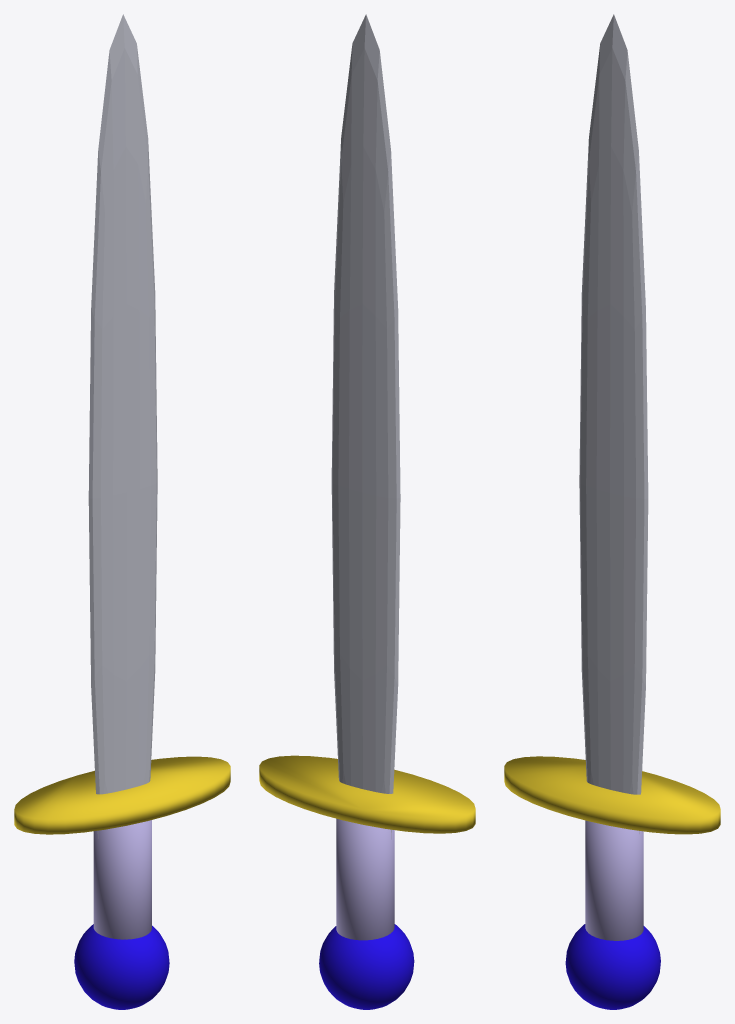
Rendered from sword.fbx.
3 renders of one model, left to right at view 1: azimuth 30°, elevation 25°; view 2: azimuth 150°, elevation 25°; view 3: azimuth 330°, elevation 25°, orthographic.
Visible parts, largest first — view 1: Cube, Circle, Circle.001, Sphere; view 2: Cube, Circle, Circle.001, Sphere; view 3: Cube, Circle, Circle.001, Sphere.
Part boxes in pixels (x1=…): Cube: x1=88, y1=14, x2=157, y2=838; Circle: x1=14, y1=756, x2=230, y2=834; Circle.001: x1=93, y1=820, x2=151, y2=939; Sphere: x1=74, y1=924, x2=169, y2=1009; Cube: x1=331, y1=14, x2=400, y2=839; Circle: x1=259, y1=755, x2=475, y2=833; Circle.001: x1=336, y1=818, x2=394, y2=940; Sphere: x1=319, y1=924, x2=414, y2=1009; Cube: x1=579, y1=14, x2=648, y2=833; Circle: x1=504, y1=756, x2=720, y2=834; Circle.001: x1=585, y1=820, x2=643, y2=940; Sphere: x1=565, y1=924, x2=660, y2=1009.
Bounding box in the file's own units: 149 × 669 × 60.3.
